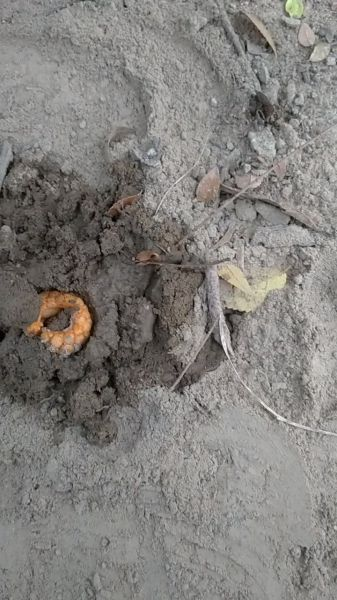eggs: (19, 274, 103, 363)
